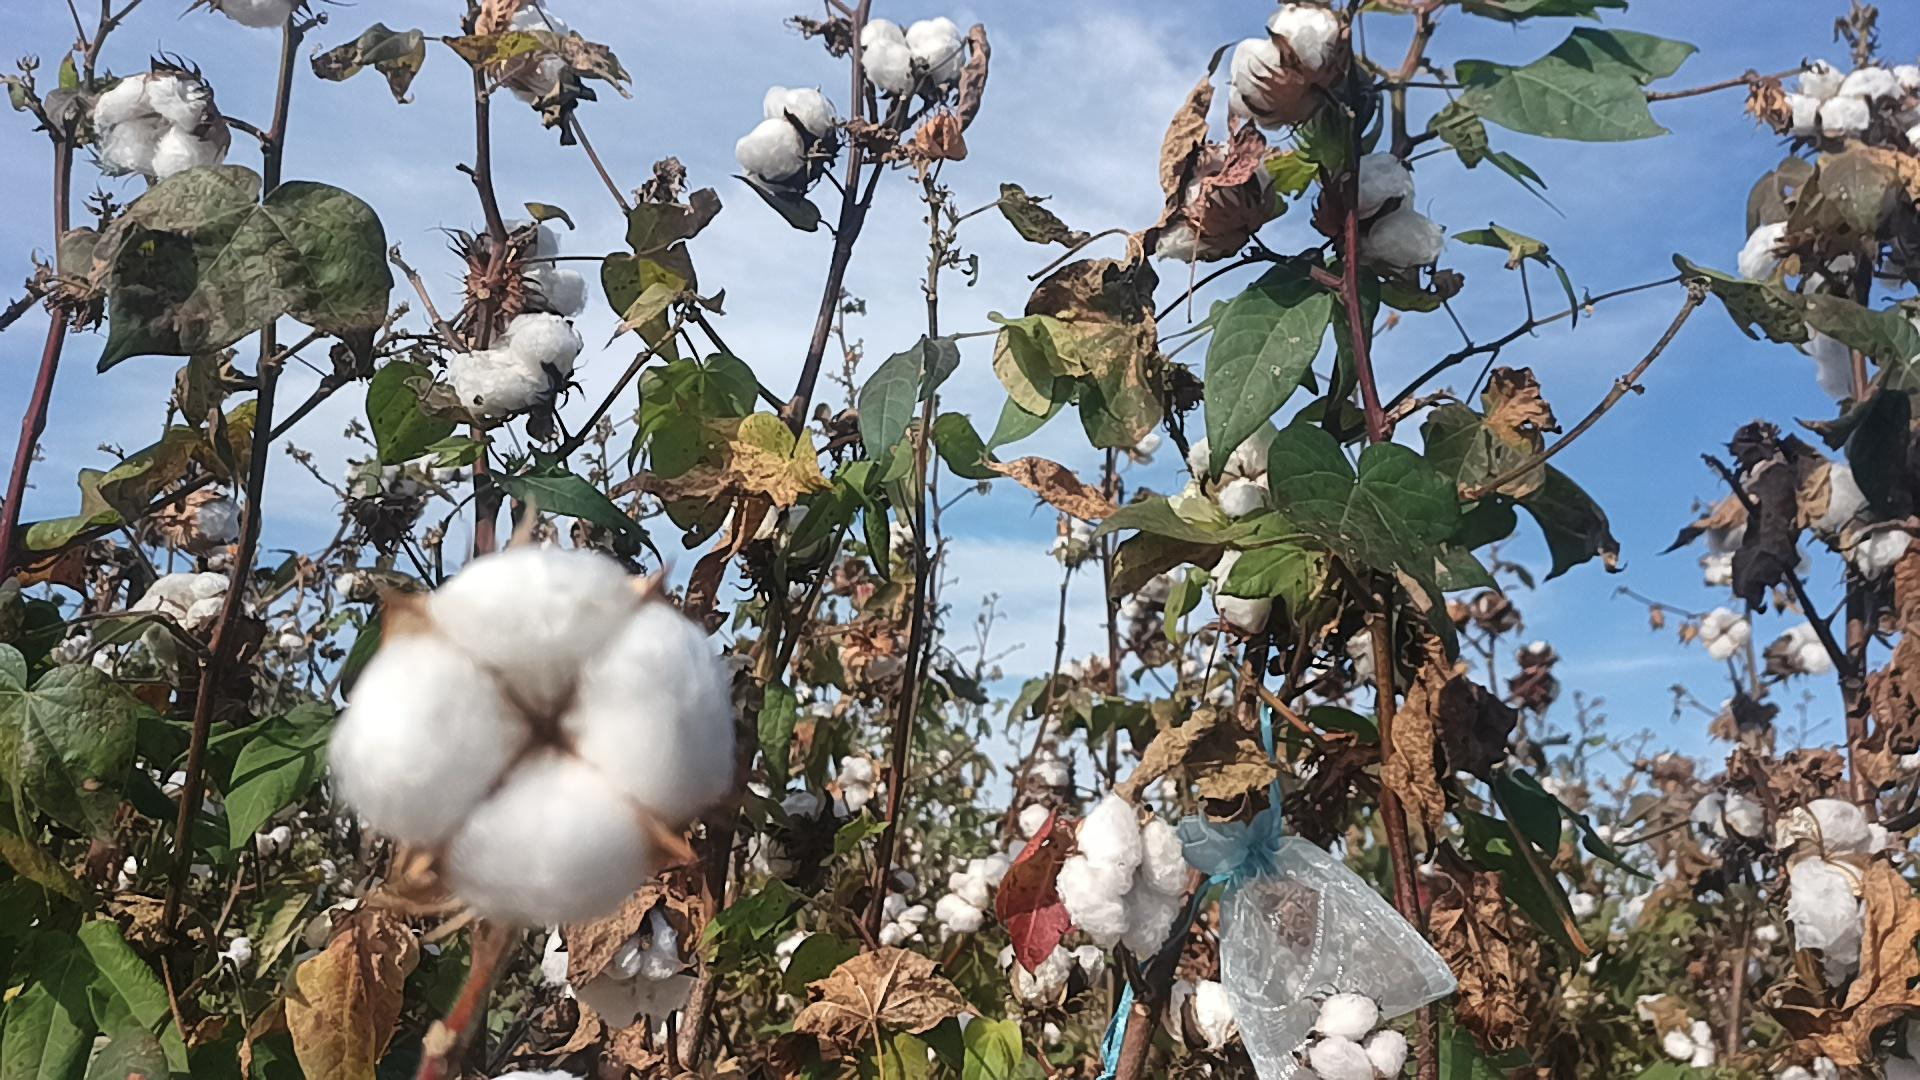cotton_ready: (334, 541, 738, 927), (1058, 795, 1189, 961), (1779, 796, 1895, 969), (92, 70, 229, 181), (448, 310, 580, 423), (1229, 0, 1340, 128), (582, 914, 696, 1023), (738, 80, 840, 193), (1818, 464, 1912, 582), (477, 220, 588, 318), (1354, 156, 1445, 264), (1316, 988, 1414, 1080), (1779, 62, 1896, 138), (1192, 419, 1282, 518), (858, 16, 963, 96), (1172, 972, 1249, 1055), (936, 858, 1014, 932), (138, 571, 233, 630), (1739, 222, 1803, 287), (1212, 549, 1262, 630), (1880, 63, 1920, 156), (820, 756, 872, 815), (193, 495, 241, 545)
